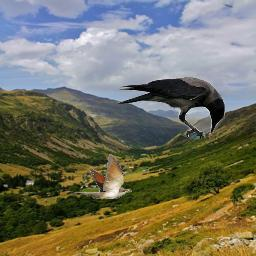Crow: (116, 76, 225, 139)
Cuckoo: (66, 154, 132, 199)
